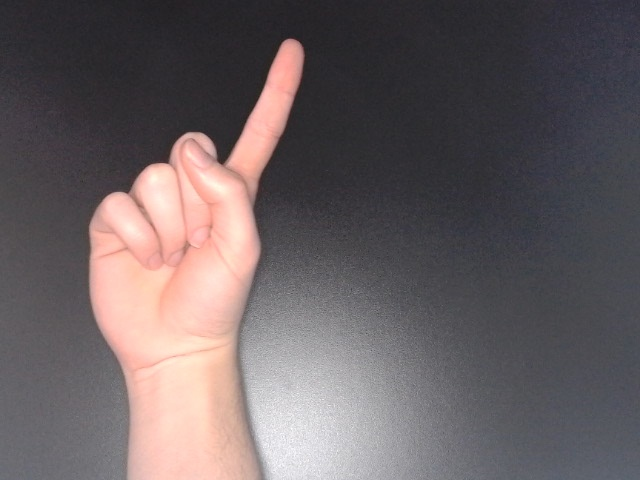z: (80, 30, 310, 391)
